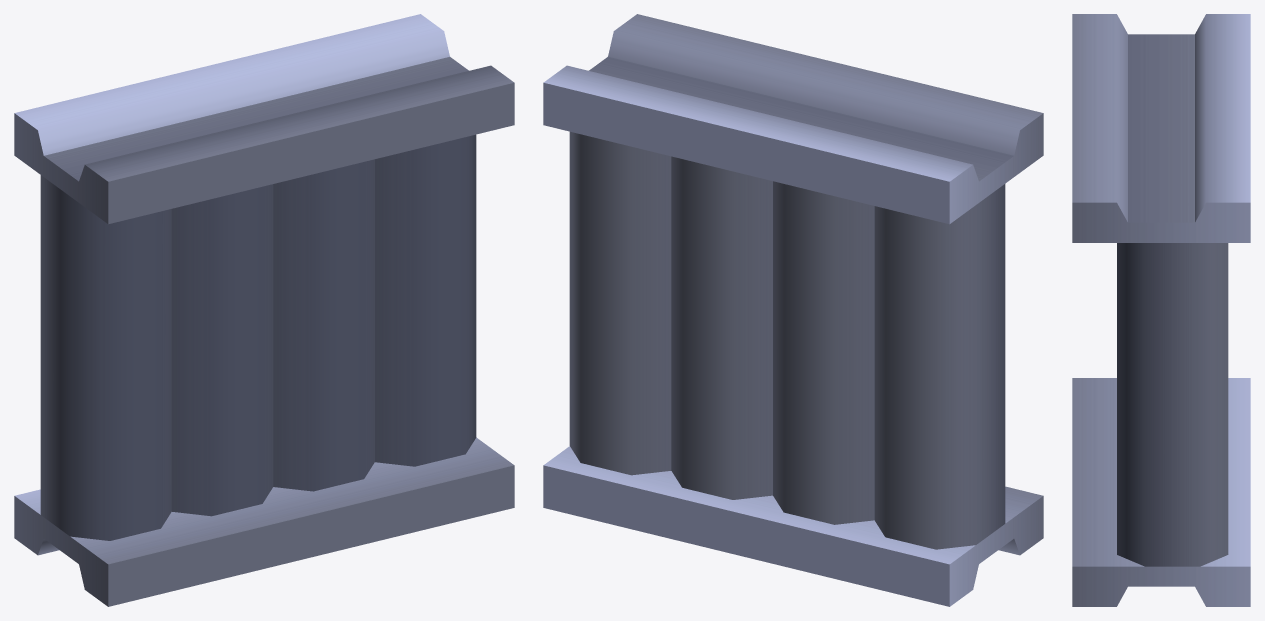
Rendered from conveyor-bars-high.obj.
The picture shows the model from 3 angles, left to right: view 1: azimuth 30°, elevation 25°; view 2: azimuth 150°, elevation 25°; view 3: azimuth 270°, elevation 25°; orthographic projection. The views are drawn at different scales.
Visible parts, largest first — view 1: conveyor-bars-high; view 2: conveyor-bars-high; view 3: conveyor-bars-high.
Part boxes in pixels (<box>): conveyor-bars-high: <box>14,14,514,606</box>; conveyor-bars-high: <box>543,14,1043,606</box>; conveyor-bars-high: <box>1072,14,1250,606</box>.
Size of the model in its own units: 1 by 1 by 0.4.
